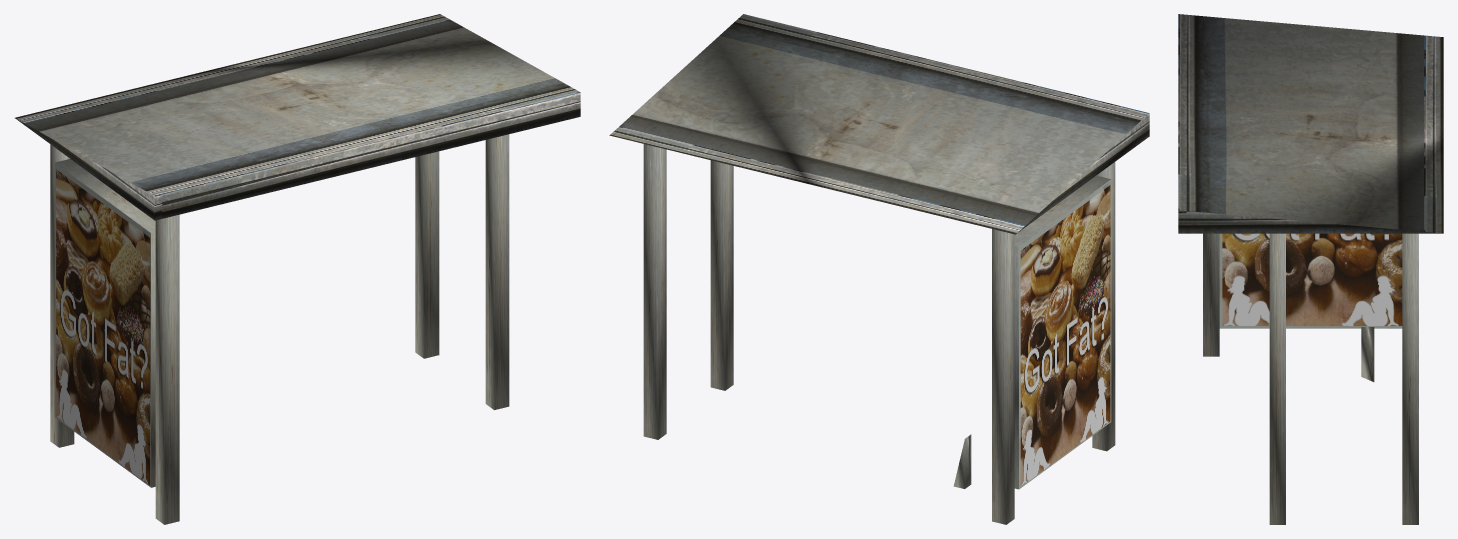
The model's file is busstop_100.fbx.
3 renders of one model, left to right at view 1: azimuth 30°, elevation 25°; view 2: azimuth 150°, elevation 25°; view 3: azimuth 270°, elevation 25°, orthographic. The views are drawn at different scales.
Parts seen in each view (by area): view 1: roof0, poster0, frame0; view 2: roof0, frame0, poster0, bench0; view 3: roof0, poster0, frame0, bench0.
Part boxes in pixels (left/top/right/bottom): roof0: left=15, top=14, right=580, bottom=220; poster0: left=54, top=163, right=150, bottom=487; frame0: left=50, top=134, right=509, bottom=524; roof0: left=609, top=14, right=1149, bottom=234; frame0: left=643, top=144, right=1115, bottom=524; poster0: left=1019, top=179, right=1111, bottom=489; bench0: left=953, top=434, right=971, bottom=488; roof0: left=1178, top=14, right=1443, bottom=233; poster0: left=1219, top=233, right=1402, bottom=328; frame0: left=1203, top=233, right=1418, bottom=524; bench0: left=1361, top=327, right=1374, bottom=381.
Size of the model in its own units: 5.29 by 4.08 by 3.02.
